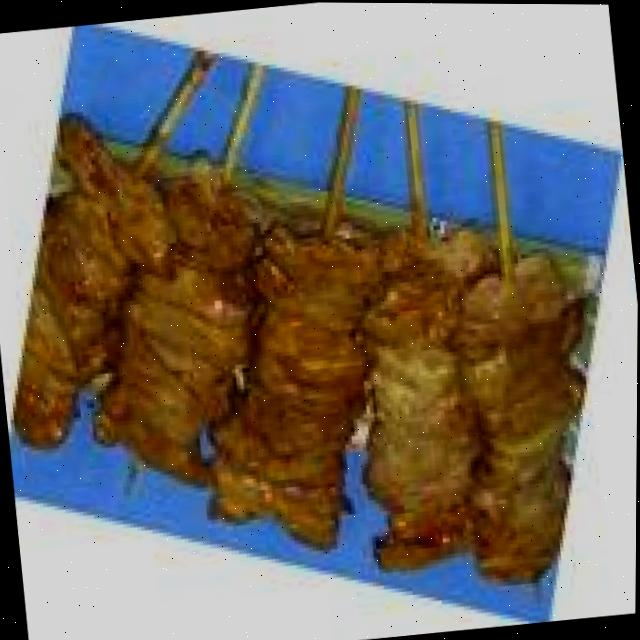烧串烤肉: (0, 15, 608, 640)
